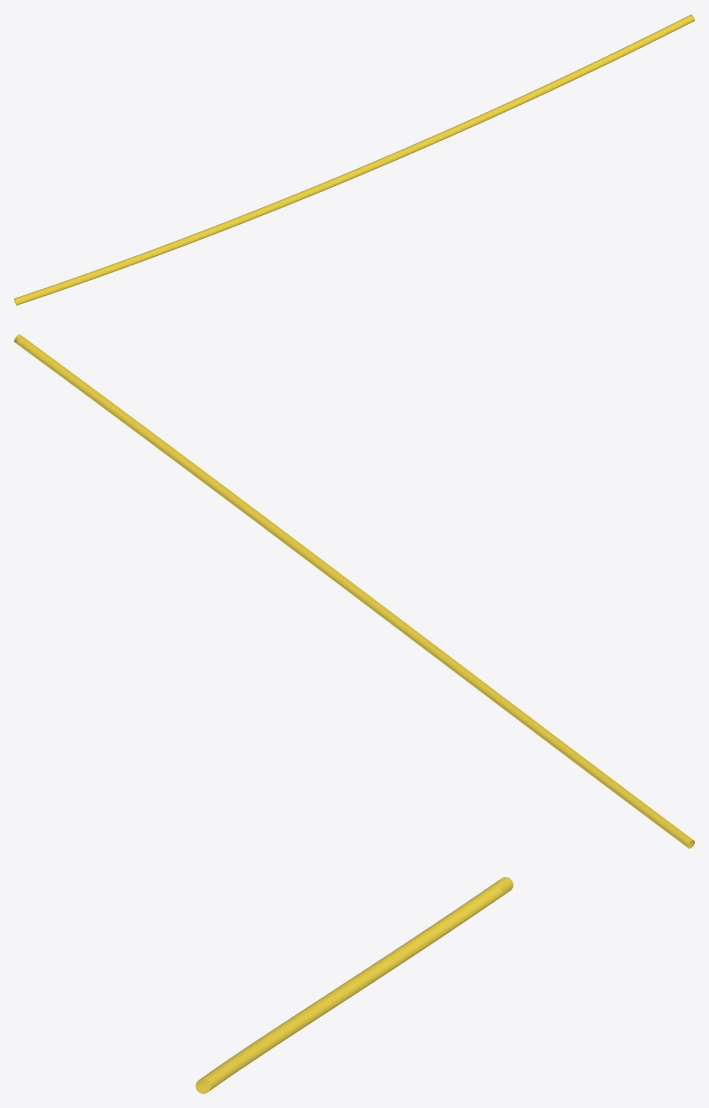
File: Event_17758602_track_182.fbx
3 renders of one model, top to bottom at view 1: azimuth 30°, elevation 25°; view 2: azimuth 150°, elevation 25°; view 3: azimuth 270°, elevation 25°, orthographic. The views are drawn at different scales.
Parts seen in each view (by area): view 1: Model; view 2: Model; view 3: Model.
Boxes of the visible parts, box(x1,y1,x2,y2) form: Model: box(14, 14, 694, 305); Model: box(14, 334, 694, 848); Model: box(195, 877, 513, 1093).
Bounding box in the file's own units: 3.63 × 1.14 × 0.8256.
